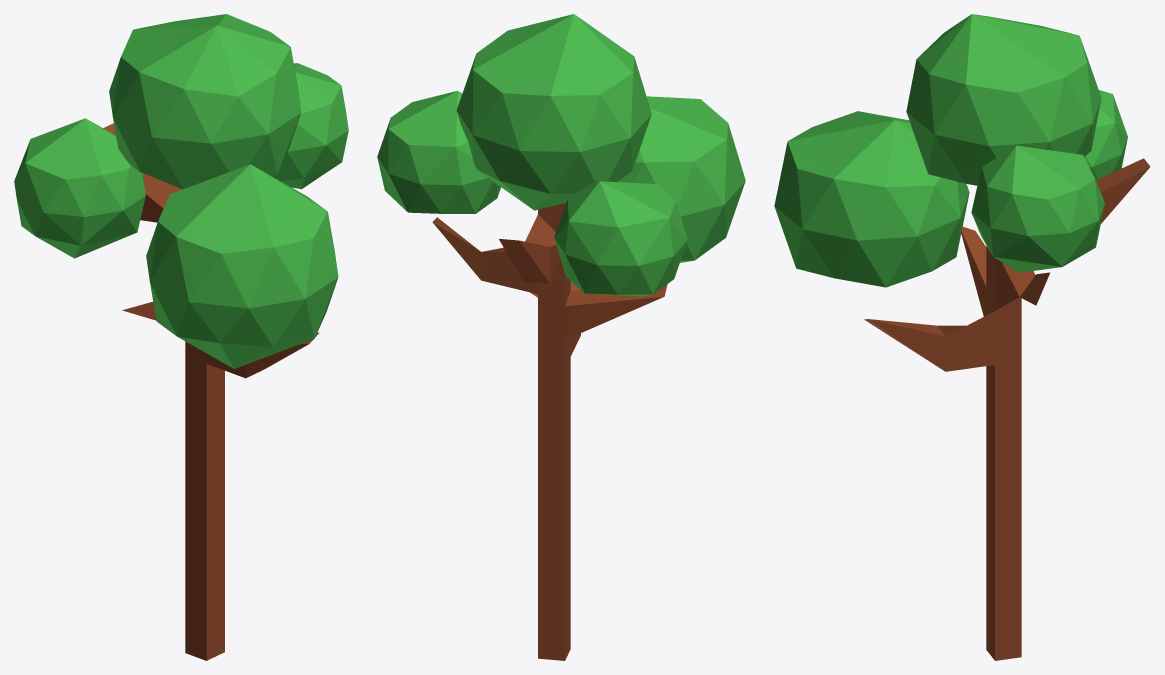
The picture shows the model from 3 angles, left to right: view 1: azimuth 30°, elevation 25°; view 2: azimuth 150°, elevation 25°; view 3: azimuth 270°, elevation 25°; orthographic projection.
Parts seen in each view (by area): view 1: 立方体.013; view 2: 立方体.013; view 3: 立方体.013.
Part boxes in pixels (x1,y1,x2,y2): 立方体.013: (14,14,348,660); 立方体.013: (377,14,745,660); 立方体.013: (774,14,1150,660).
Size of the model in its own units: 39.95 by 79.35 by 42.44.
